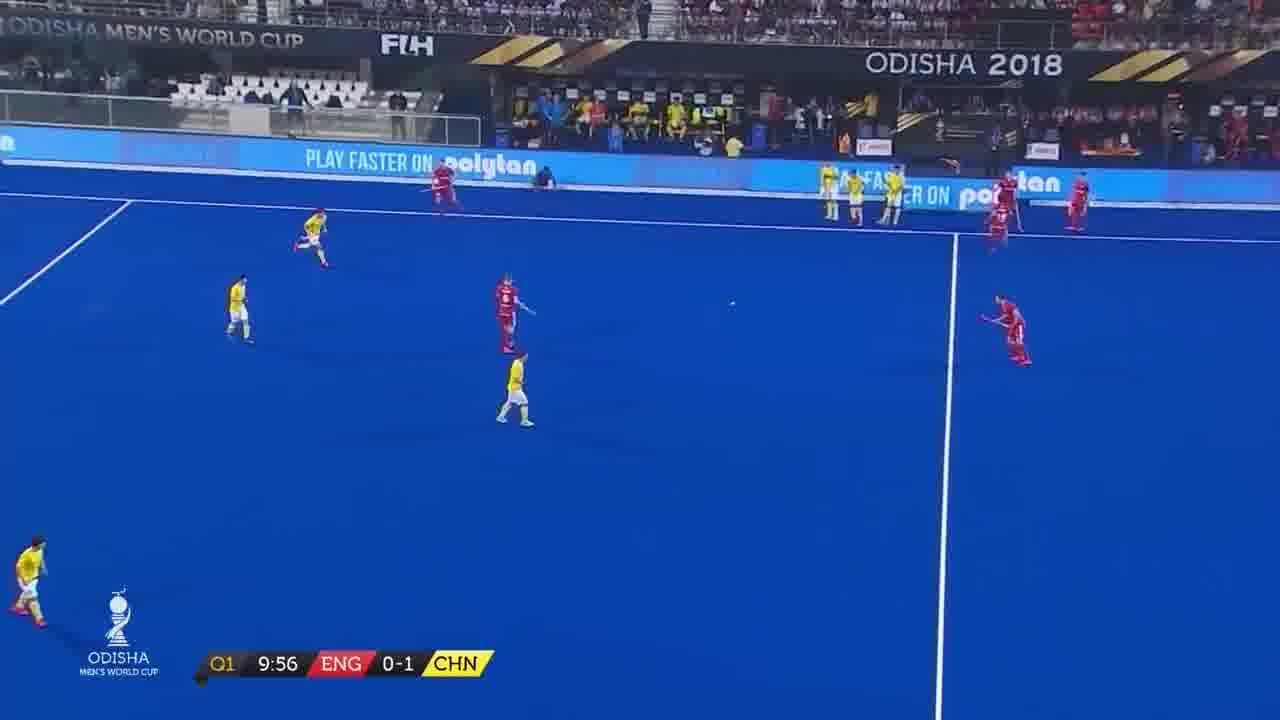ball: (728, 294, 742, 316)
